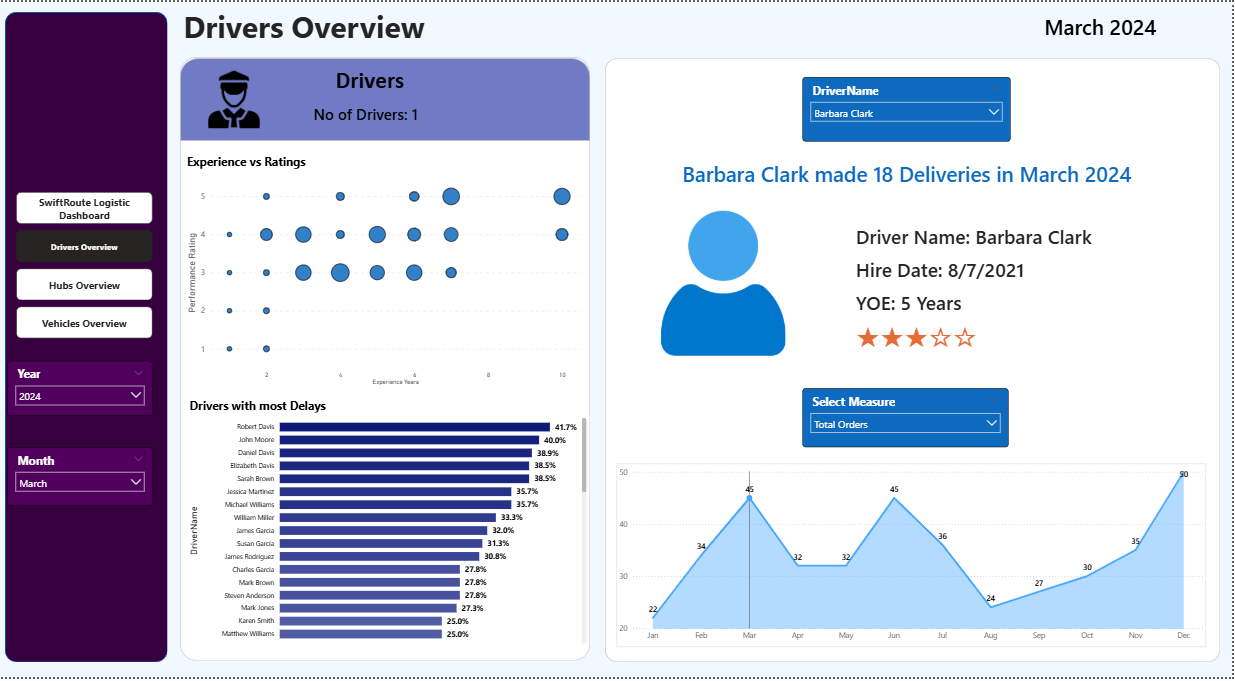

Layout of this report page (visuals, bound fields, positions):
{"tool":"powerbi","page":{"name":"Drivers Overview","canvas":[1970,1080],"ordinal":1},"visuals":[{"type":"shape","box":[8,16,260,1040],"z":0},{"type":"textbox","box":[288,0,852,90],"z":1000},{"type":"slicer","fields":{"Values":["Date Table.Month"]},"box":[12,712,232,94],"z":2000},{"type":"slicer","fields":{"Values":["Date Table.Year"]},"box":[12,574,232,88],"z":3000},{"type":"shape","box":[288,88,656,966],"z":4000},{"type":"shape","box":[288,90,656,132],"z":5000},{"type":"cardVisual","fields":{"Data":["Drivers.No of Driver"]},"box":[374,148,422,58],"z":6000},{"type":"textbox","box":[532,98,300,58],"z":7000},{"type":"scatterChart","title":"Experience vs Ratings","fields":{"X":["Drivers.Experience Years"],"Y":["Drivers.Performance Rating"],"Size":["Sum(Drivers.Experience Years)1"]},"box":[294,242,646,376],"z":8000},{"type":"barChart","title":"Drivers with most Delays","fields":{"Category":["Drivers.DriverName"],"Y":["Orders.Delayed Delivery Rate"]},"box":[298,632,646,400],"z":9000},{"type":"cardVisual","fields":{"Data":["Orders.Year Month Title"]},"box":[1549.1,0,421.7,74.2],"z":10000},{"type":"shape","box":[968,90,984,966],"z":11000},{"type":"slicer","fields":{"Values":["Drivers.DriverName"]},"box":[1283,119.4,333,103.2],"z":12000},{"type":"cardVisual","fields":{"Data":["Drivers.Drivers Title"]},"box":[1033.3,242.5,834.3,61.5],"z":13000},{"type":"cardVisual","fields":{"Data":["Drivers.Driver Name Title","Drivers.Hire Date Title","Drivers.YOE","Drivers.Star Rating"]},"box":[1341,334.8,550.1,238.9],"z":14000},{"type":"areaChart","fields":{"Y":["Orders.Total Orders"],"Category":["Date Table.Month Abr"]},"box":[986,738,944,294],"z":15000},{"type":"slicer","fields":{"Values":["Select Measure.Select Measure"]},"box":[1283,618.9,329.4,94.1],"z":16000},{"type":"image","box":[1015.2,334.8,282.3,231.6],"z":17000},{"type":"pageNavigator","box":[26,304,218,236],"z":18000},{"type":"image","box":[314,110,120,92],"z":19000}]}

Visuals, with their boxes in screenshot pixels (x1, y1, x2, y2), scaled from the page's 1970x1080 canvas onto the 1235x681 screenshot:
shape: locate(5, 10, 168, 666)
textbox: locate(181, 0, 715, 57)
slicer - Date Table.Month: locate(8, 449, 153, 508)
slicer - Date Table.Year: locate(8, 362, 153, 417)
shape: locate(181, 55, 592, 665)
shape: locate(181, 57, 592, 140)
cardVisual - Drivers.No of Driver: locate(234, 93, 499, 130)
textbox: locate(334, 62, 522, 98)
"Experience vs Ratings" scatterChart: locate(184, 153, 589, 390)
"Drivers with most Delays" barChart: locate(187, 399, 592, 651)
cardVisual - Orders.Year Month Title: locate(971, 0, 1234, 47)
shape: locate(607, 57, 1224, 666)
slicer - Drivers.DriverName: locate(804, 75, 1013, 140)
cardVisual - Drivers.Drivers Title: locate(648, 153, 1171, 192)
cardVisual - Drivers.Driver Name Title x Drivers.Hire Date Title: locate(841, 211, 1186, 362)
areaChart - Orders.Total Orders x Date Table.Month Abr: locate(618, 465, 1210, 651)
slicer - Select Measure.Select Measure: locate(804, 390, 1011, 450)
image: locate(636, 211, 813, 357)
pageNavigator: locate(16, 192, 153, 340)
image: locate(197, 69, 272, 127)
